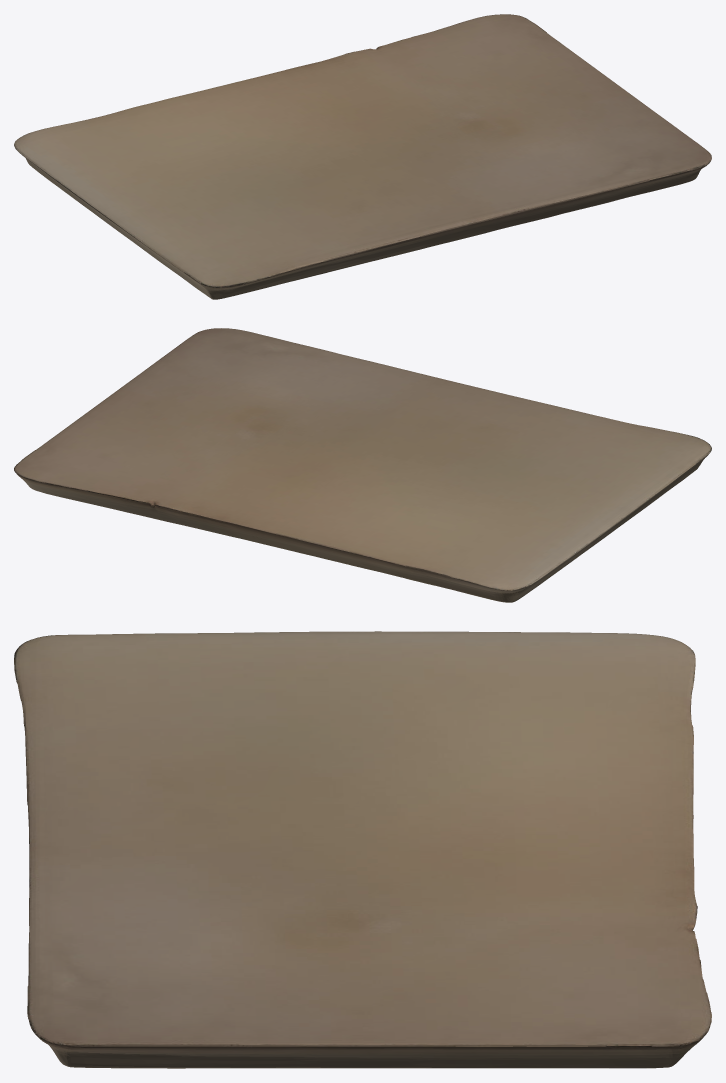
3 views of the same model, one above another, from view 1: azimuth 30°, elevation 25°; view 2: azimuth 150°, elevation 25°; view 3: azimuth 270°, elevation 25° (orthographic). The views are drawn at different scales.
Parts seen in each view (by area): view 1: geometry_0; view 2: geometry_0; view 3: geometry_0.
Part boxes in pixels (x1,y1,x2,y2): geometry_0: (14,14,711,299); geometry_0: (14,328,711,602); geometry_0: (14,631,711,1068).
Bounding box in the file's own units: 0.9957 × 0.0468 × 0.7091.
1 material, 1 textured.
